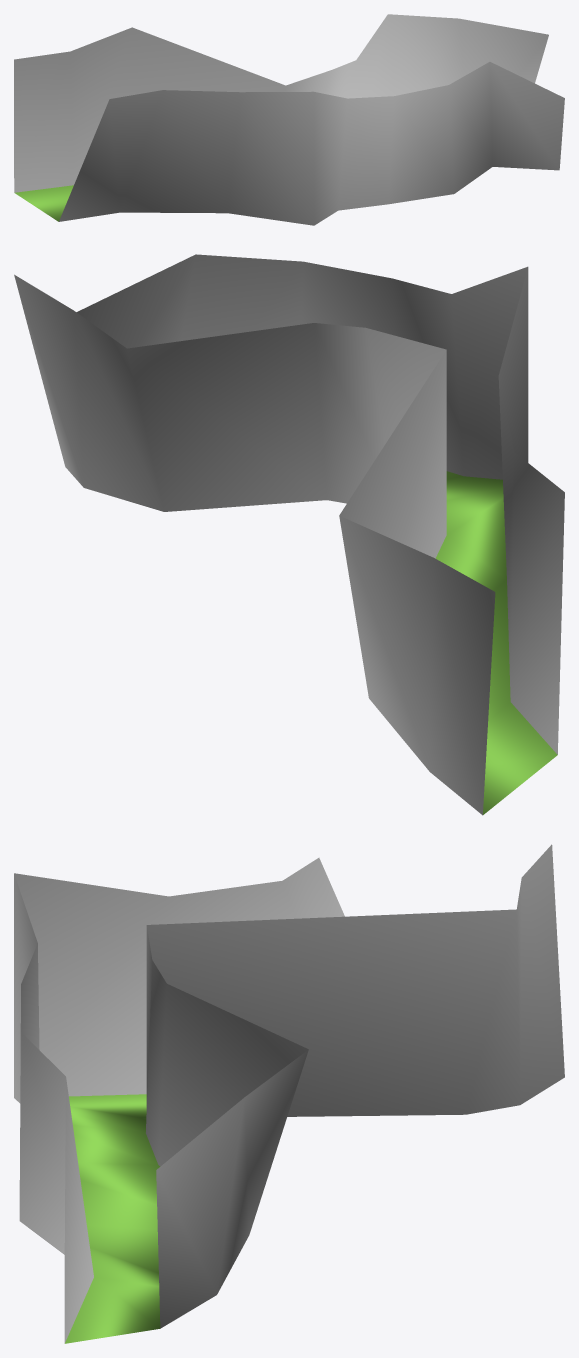
3 views of the same model, one above another, from view 1: azimuth 30°, elevation 25°; view 2: azimuth 150°, elevation 25°; view 3: azimuth 270°, elevation 25° (orthographic). The views are drawn at different scales.
Visible parts, largest first — view 1: level7; view 2: level7; view 3: level7.
Part boxes in pixels (x1=…): level7: x1=14, y1=14, x2=564, y2=225; level7: x1=14, y1=254, x2=564, y2=815; level7: x1=14, y1=844, x2=564, y2=1343.
Size of the model in its own units: 47.62 by 20.5 by 32.45.
